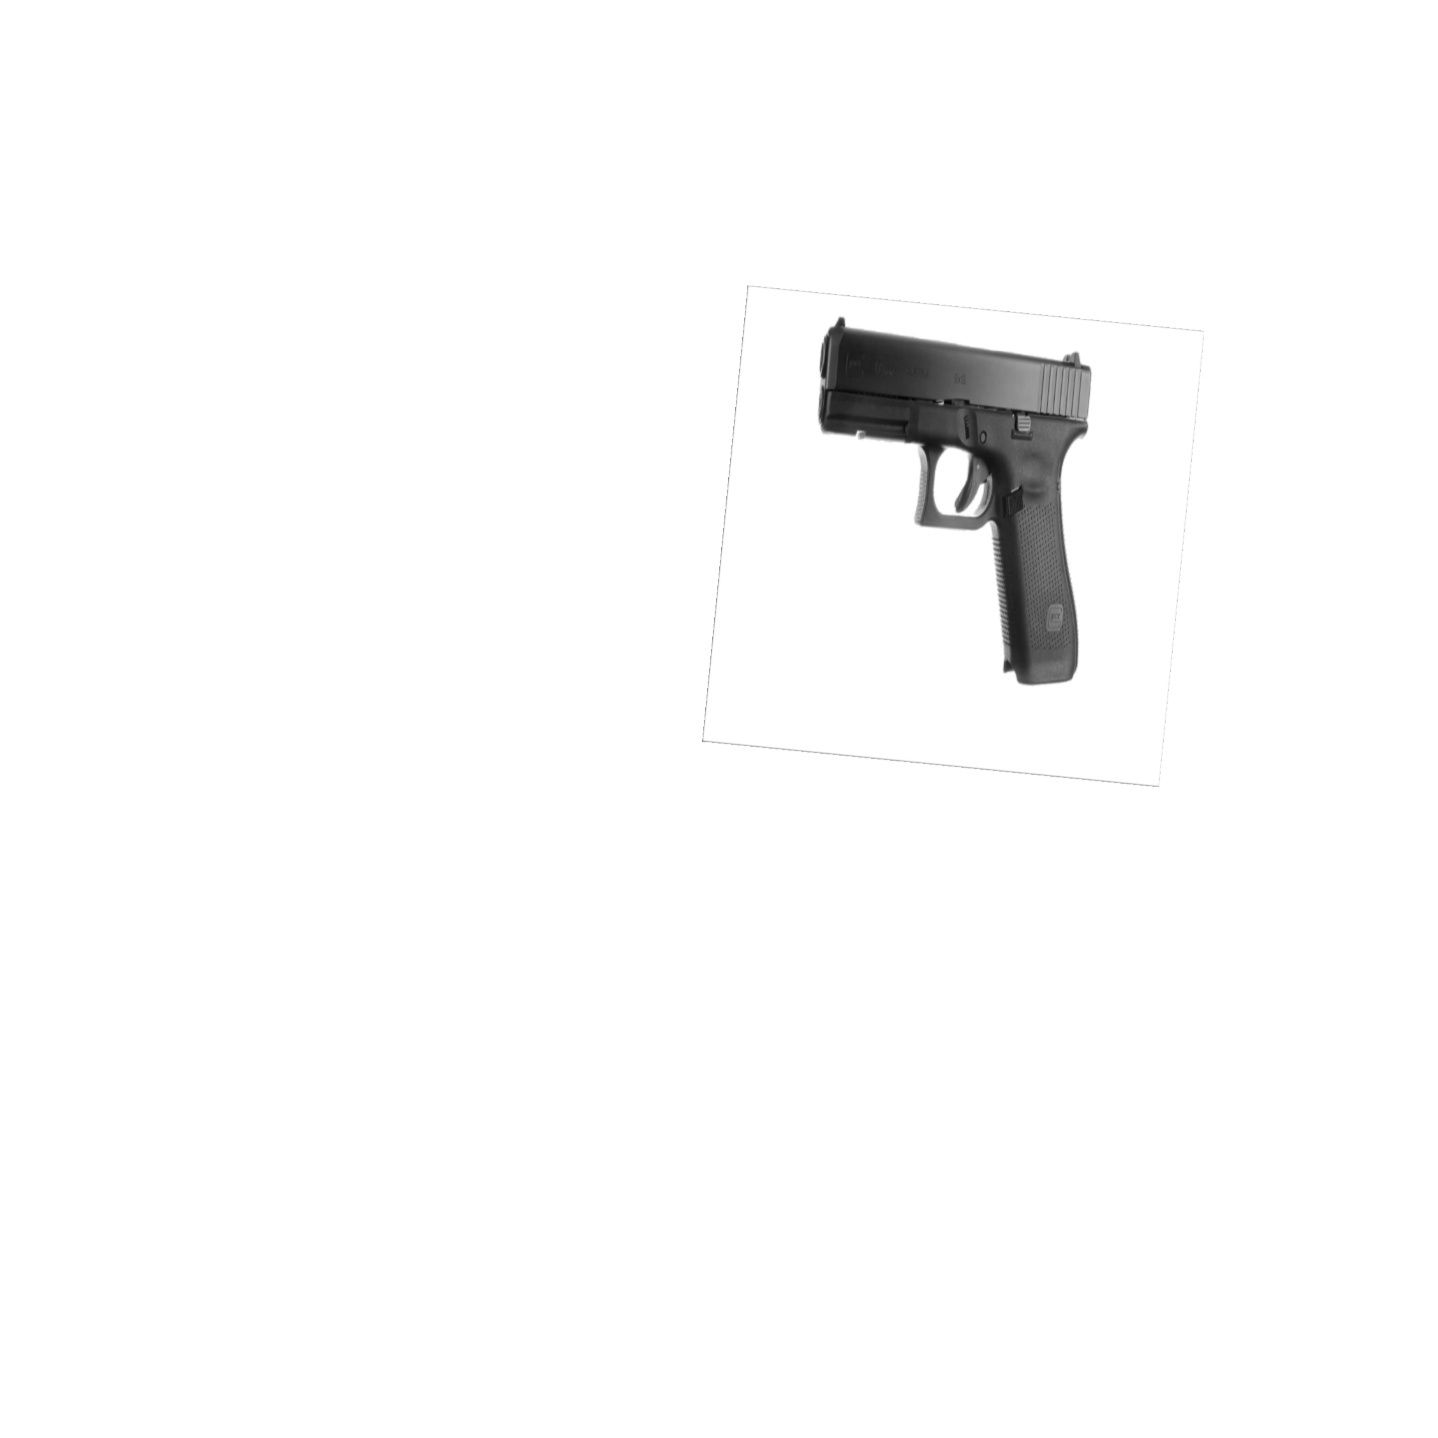gun: (812, 312, 1105, 695)
